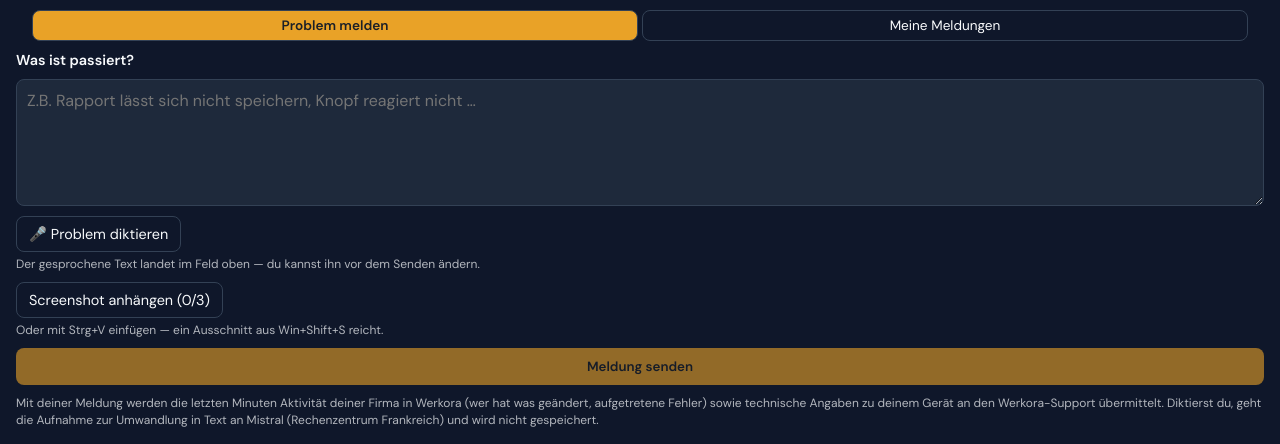
SupportForm › füllt den Panel-Platz und scrollt, statt abgeschnitten zu werden
Note: Auch die Quittung: mit Fehlerhinweis wird sie schnell länger als das Panel.
Replace the text in the text box labelled "Was ist passiert?" with "x". click: {"x": 640, "y": 142}
box: [16,79,1264,206]
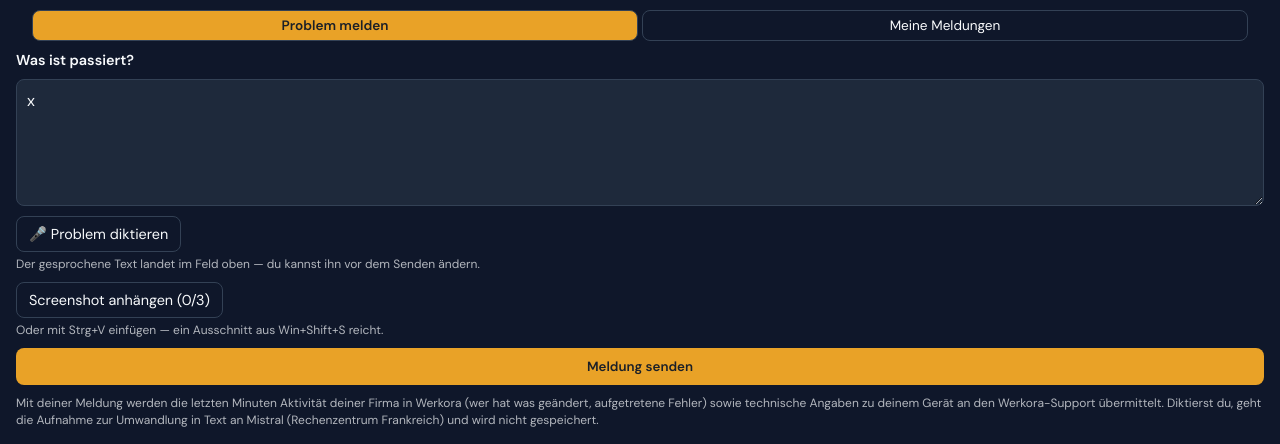
Click the button "Meldung senden". click: {"x": 640, "y": 366}
box: [16,348,1264,385]
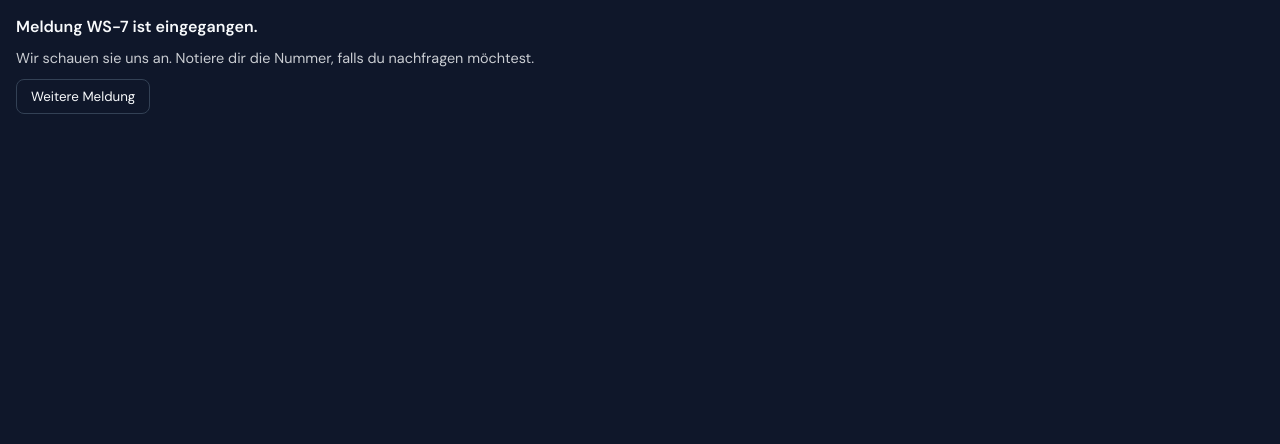
Expected: the text "Meldung WS-7 ist eingegangen." is shown, [16,16,257,37]
